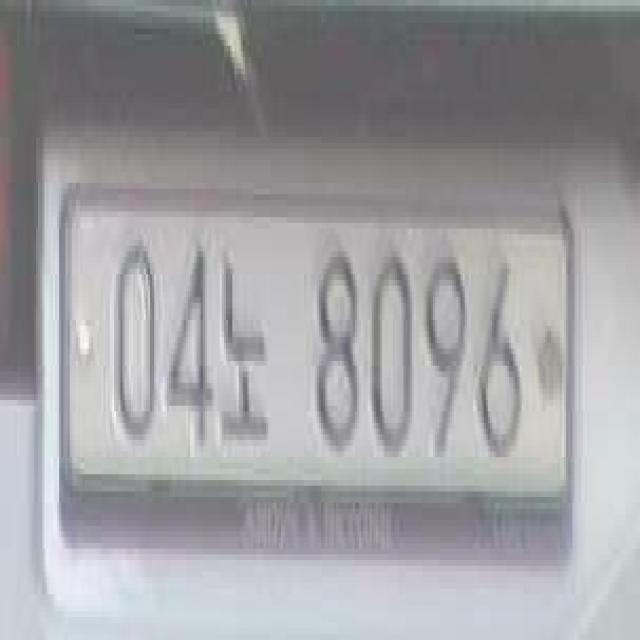illegal_plate: (65, 180, 582, 569)
